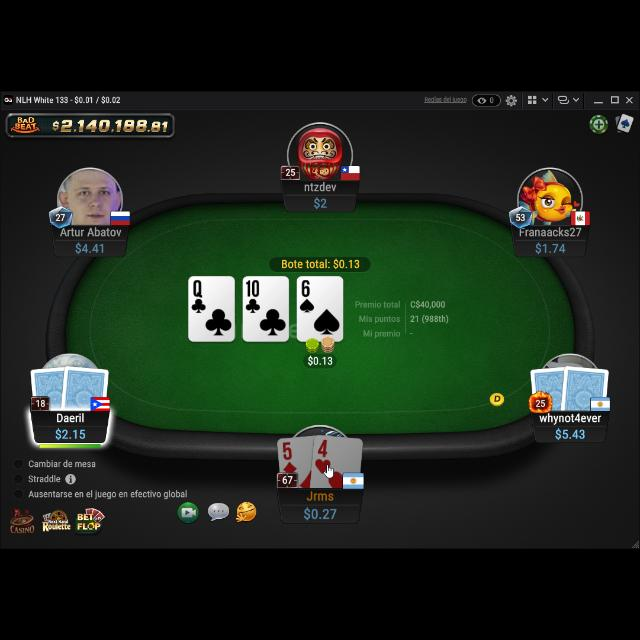4h: (314, 438, 332, 476)
5d: (282, 442, 298, 476)
6s: (299, 278, 317, 314)
Qc: (188, 278, 208, 316)
Tc: (244, 278, 262, 316)
bet_text: (306, 353, 336, 367)
card_back: (560, 363, 612, 415), (60, 363, 111, 415), (528, 364, 572, 414), (28, 364, 72, 412)
dealer: (488, 390, 508, 408)
pot_text: (283, 260, 362, 270)
stack_text: (302, 504, 338, 522), (54, 426, 88, 440), (74, 241, 106, 255), (554, 427, 586, 441), (533, 242, 567, 254), (312, 196, 330, 210)
